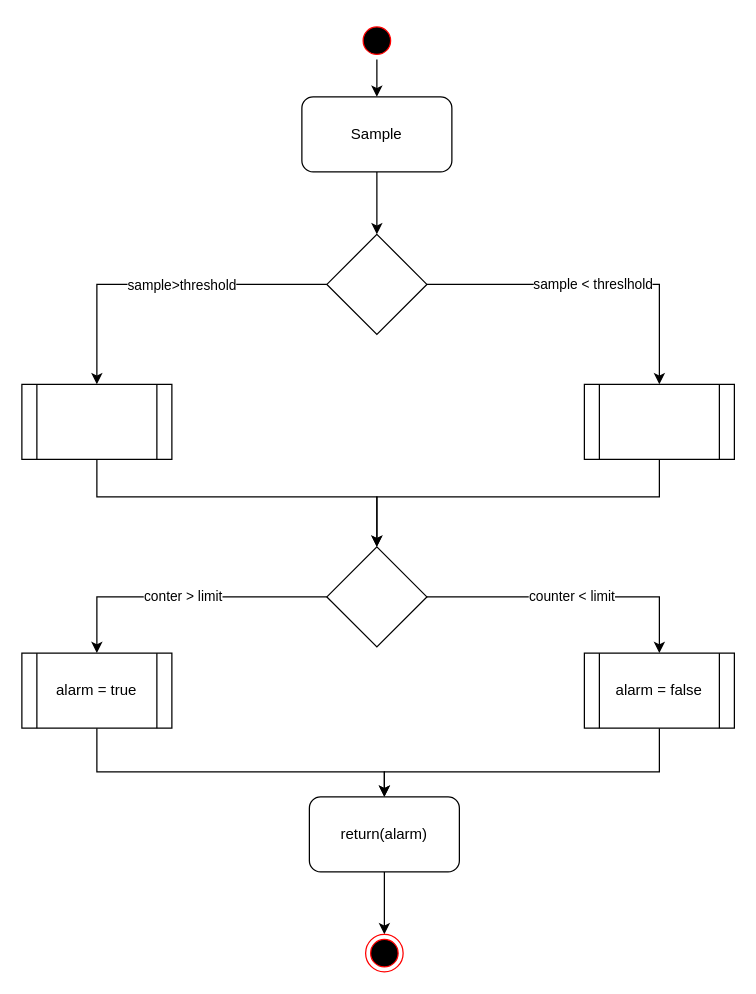
Some shapes in this 756 by 994 pixel diagram are drawn without their labels. The centre of each missing label's shape, as x and y in pixels:
"counter += rampDOWNdec" goes at [658,421].
"counter += rampUpinc" goes at [96,421].
